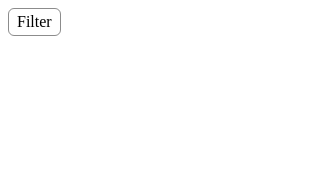
Scenario: FilterBox (spec filter §3, §5) › keeps the selection while closed
What coordinates should you click on to do the following:
click the button "Filter"
I would click on:
 (34, 22)
Its box is [8,8,61,36].
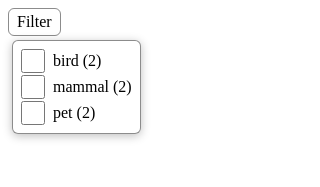
What coordinates should you click on to do the following:
click the checkbox labelled "bird (2)"
I would click on:
 (33, 61)
Its box is [21,49,45,73].
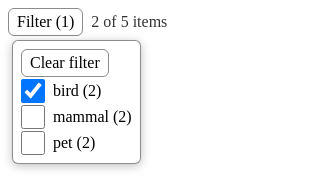
What coordinates should you click on to do the following:
click the button "Filter (1)"
I would click on:
 (46, 22)
Its box is [8,8,83,36].
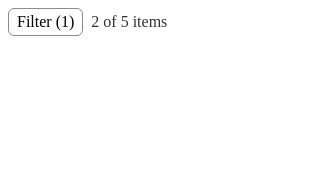
Result: the button "Filter (1)" is shown
What coordinates should you click on to do the following:
click the button "Filter (1)"
I would click on:
 (46, 22)
Its box is [8,8,83,36].
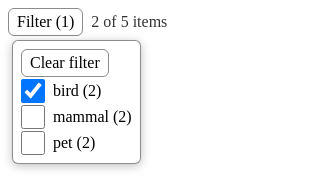
Result: the checkbox labelled "bird (2)" is checked at [21,79,45,103]
